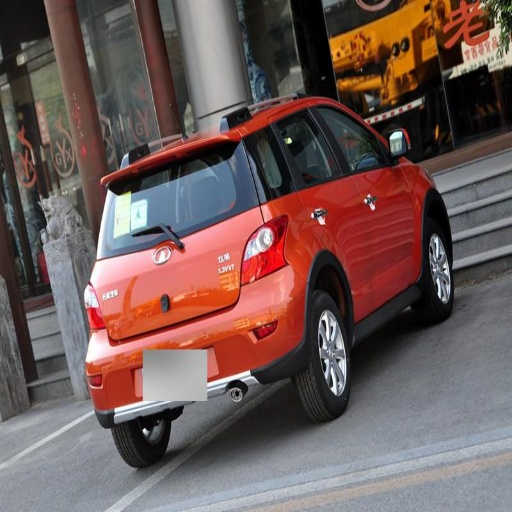back_bumper: (84, 265, 307, 418)
back_right_door: (271, 104, 377, 315)
tailgate: (113, 171, 170, 211)
trunk: (97, 213, 259, 339)
